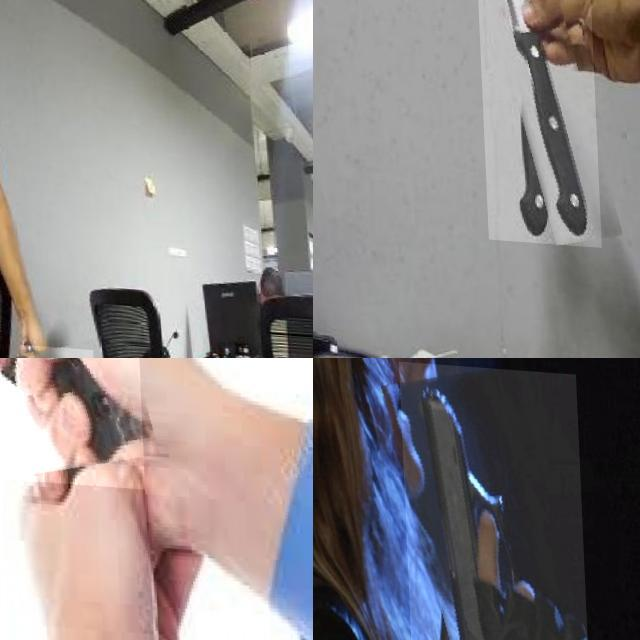-: (470, 0, 597, 241)
gun-knife-thesis - v11 Yolov5 augmented: (396, 358, 586, 640), (0, 358, 141, 530)
